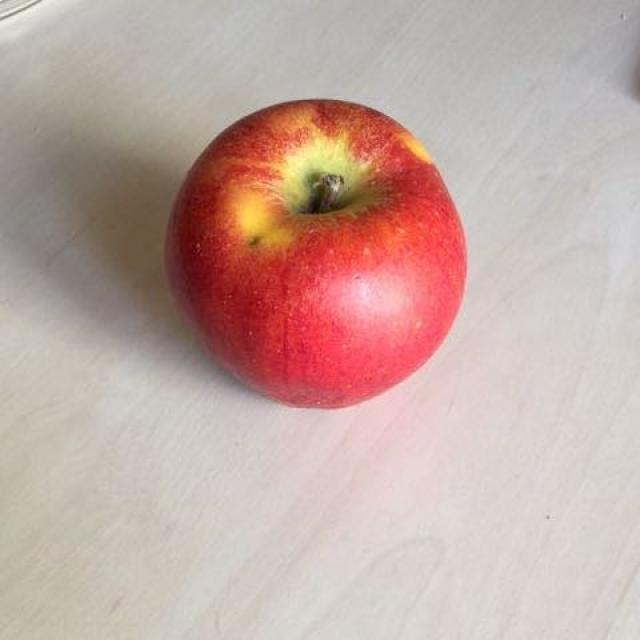apple: (162, 99, 462, 405)
